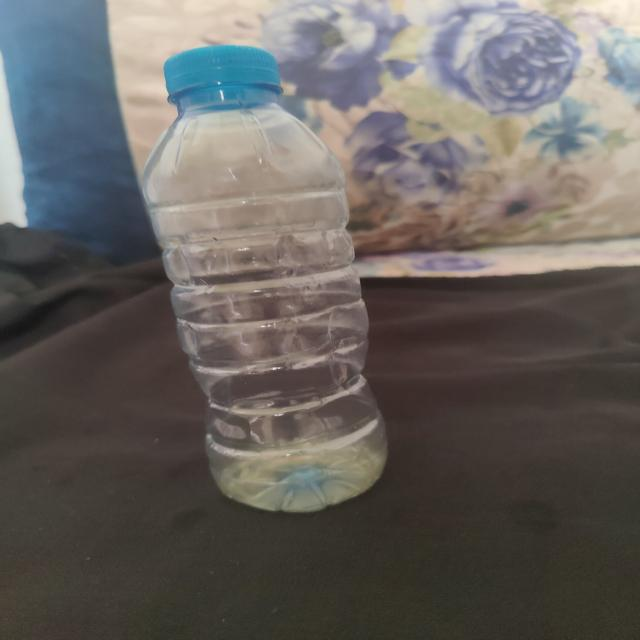plastic: (147, 49, 394, 515)
